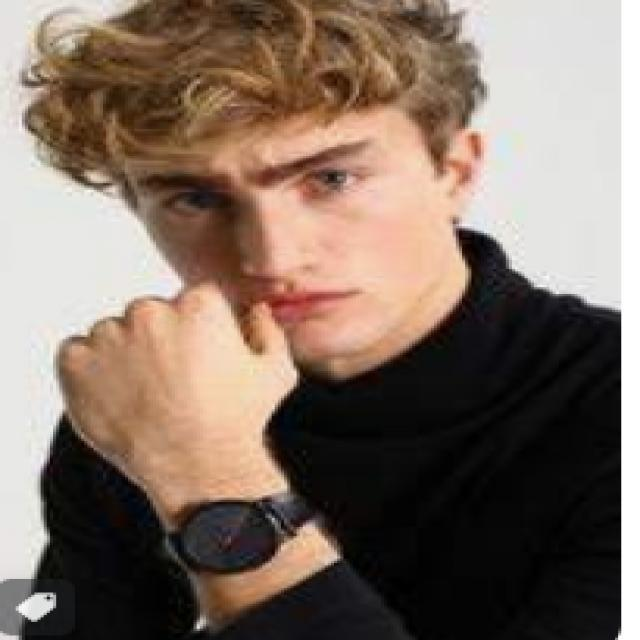Watch: (158, 482, 324, 576)
